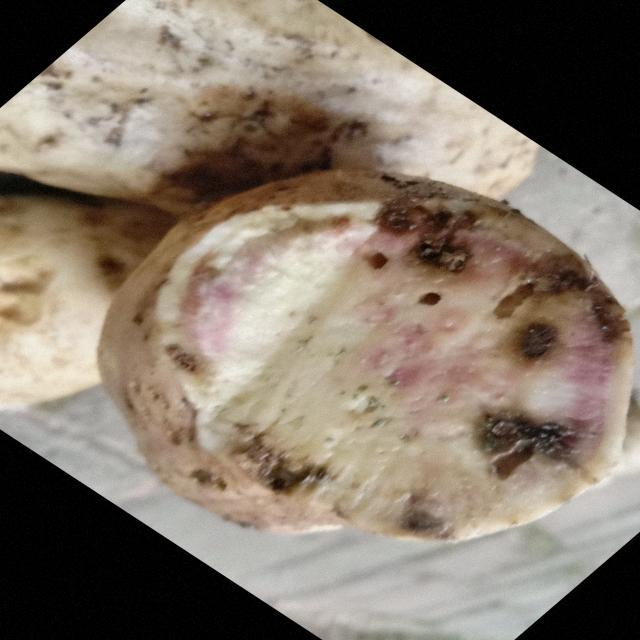Sick Sweet Potato_Tuber Rot: (100, 170, 637, 541)
